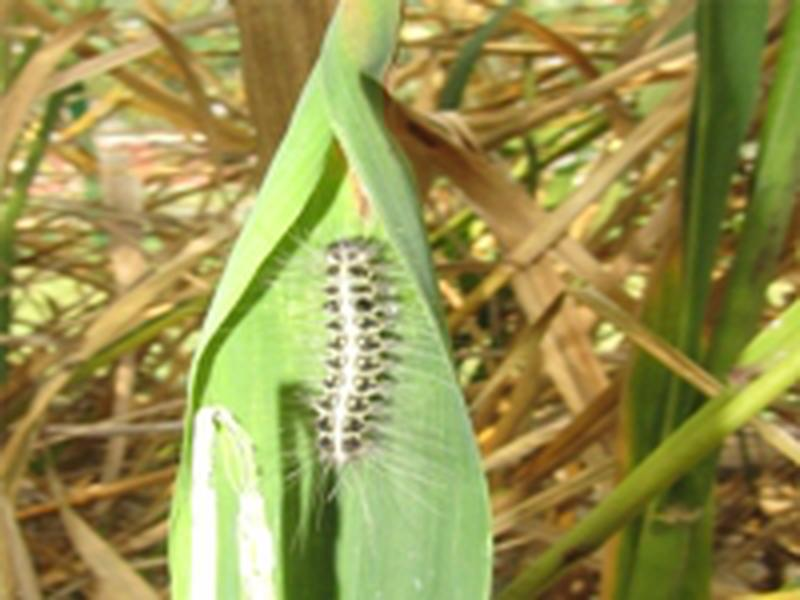Rice_case_worm: (297, 191, 399, 476)
